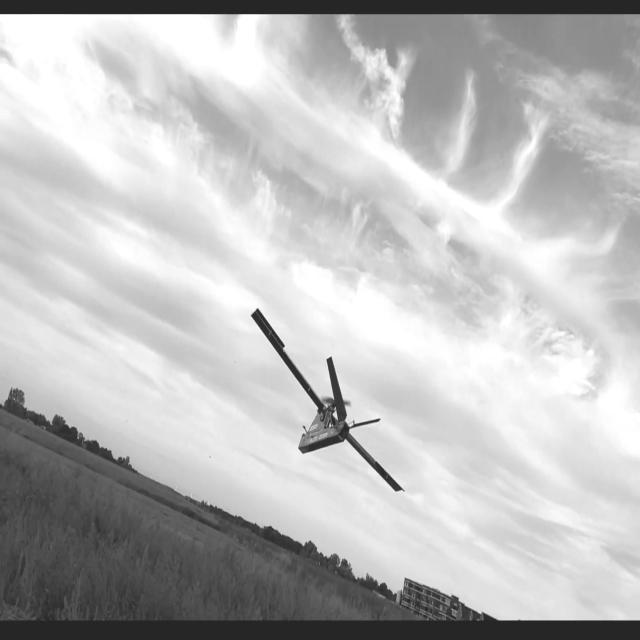iha: (205, 296, 442, 506)
